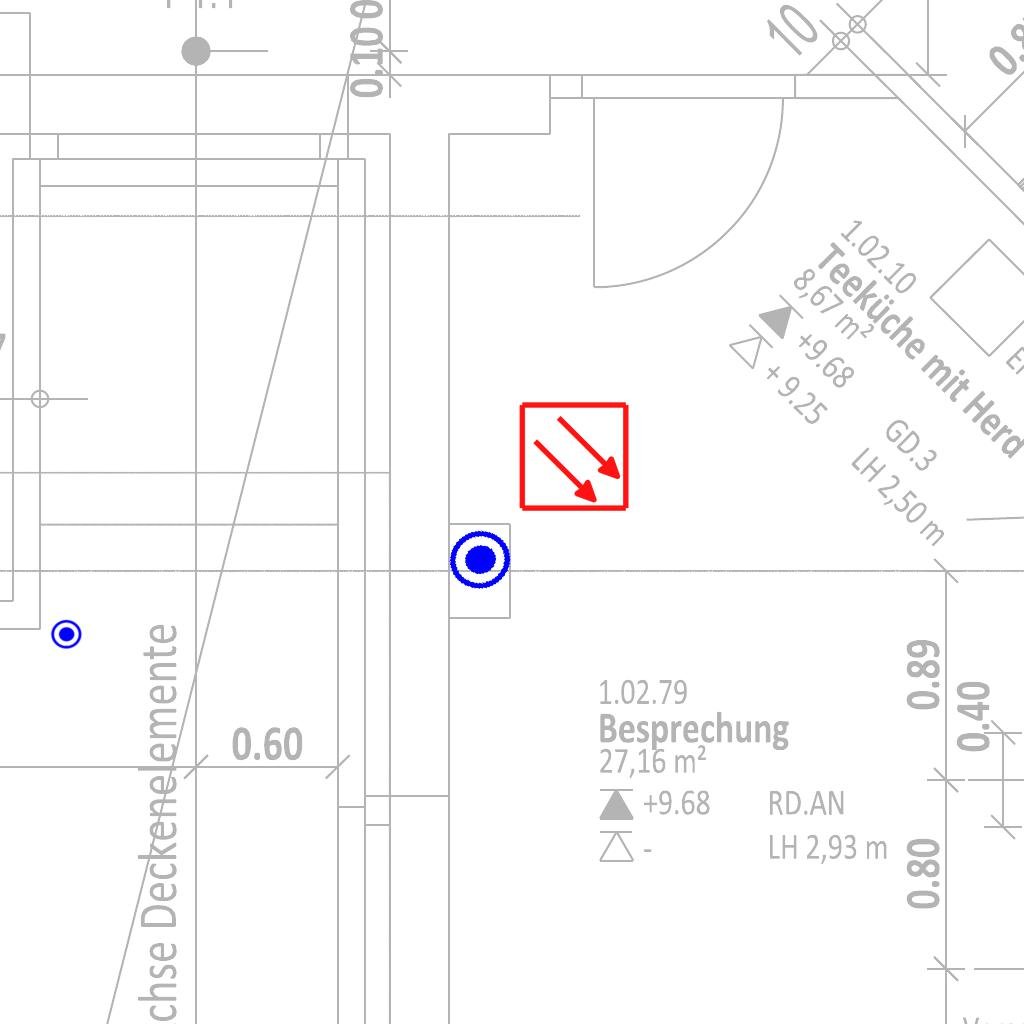RMO_Rauchmelder_optischer: (518, 400, 631, 513)
Taster: (439, 520, 523, 604), (50, 619, 83, 652)
